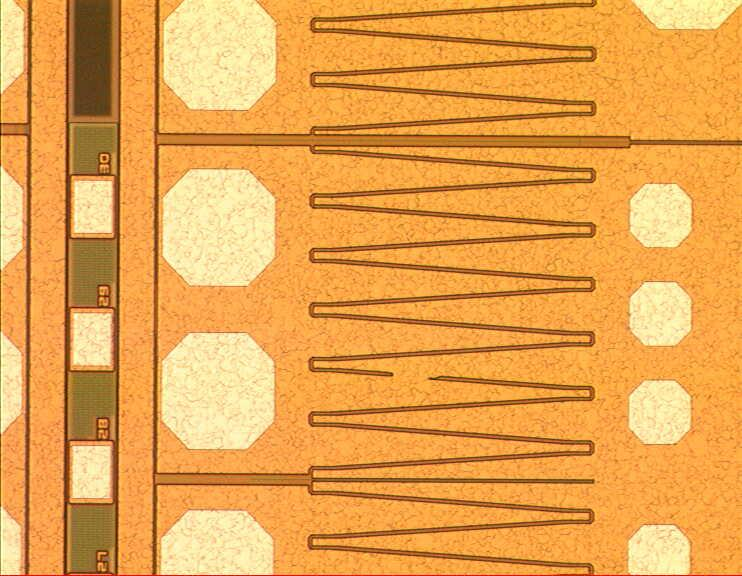BLOCK ETCH: (380, 345, 448, 413)
